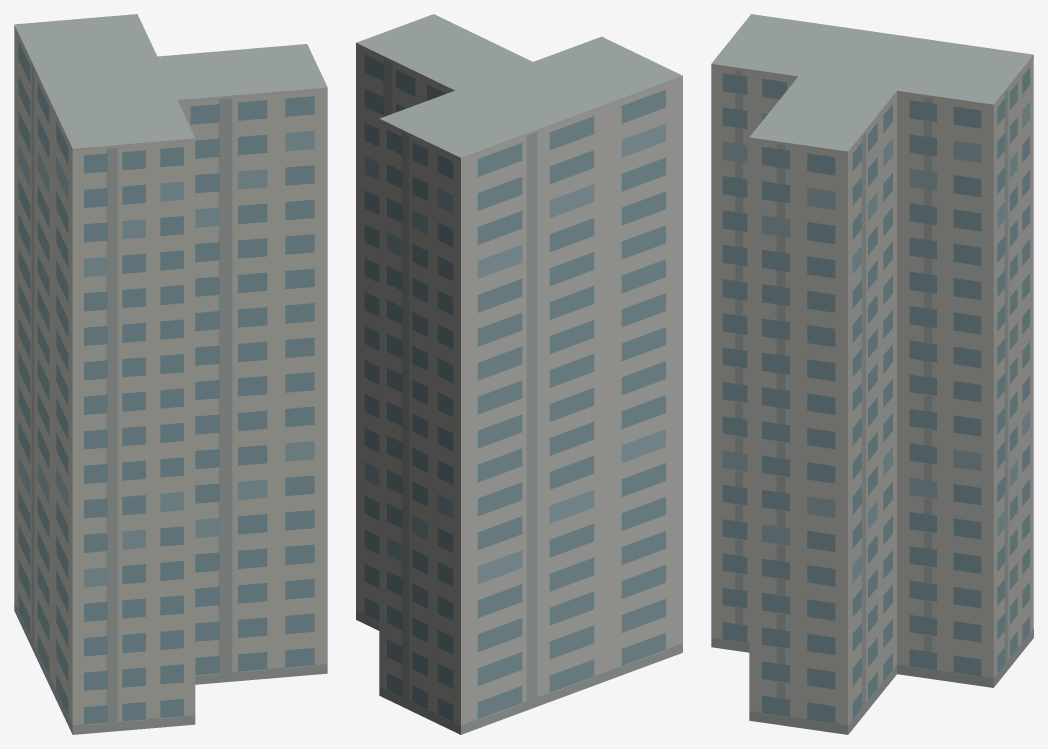
Rendered from residential-7cf81a5c-58ab-41b3-aa05-ce622bfa4aa0.glb.
3 renders of one model, left to right at view 1: azimuth 30°, elevation 25°; view 2: azimuth 150°, elevation 25°; view 3: azimuth 270°, elevation 25°, orthographic.
Parts seen in each view (by area): view 1: residential-7cf81a5c-58ab-41b3-aa05-ce622bfa4aa0.tmp; view 2: residential-7cf81a5c-58ab-41b3-aa05-ce622bfa4aa0.tmp; view 3: residential-7cf81a5c-58ab-41b3-aa05-ce622bfa4aa0.tmp.
Part boxes in pixels (box(x1,y1,x2,y2)): residential-7cf81a5c-58ab-41b3-aa05-ce622bfa4aa0.tmp: box(14, 14, 327, 734); residential-7cf81a5c-58ab-41b3-aa05-ce622bfa4aa0.tmp: box(356, 14, 682, 734); residential-7cf81a5c-58ab-41b3-aa05-ce622bfa4aa0.tmp: box(711, 14, 1033, 734).
Size of the model in its own units: 26.82 by 53 by 26.57.
